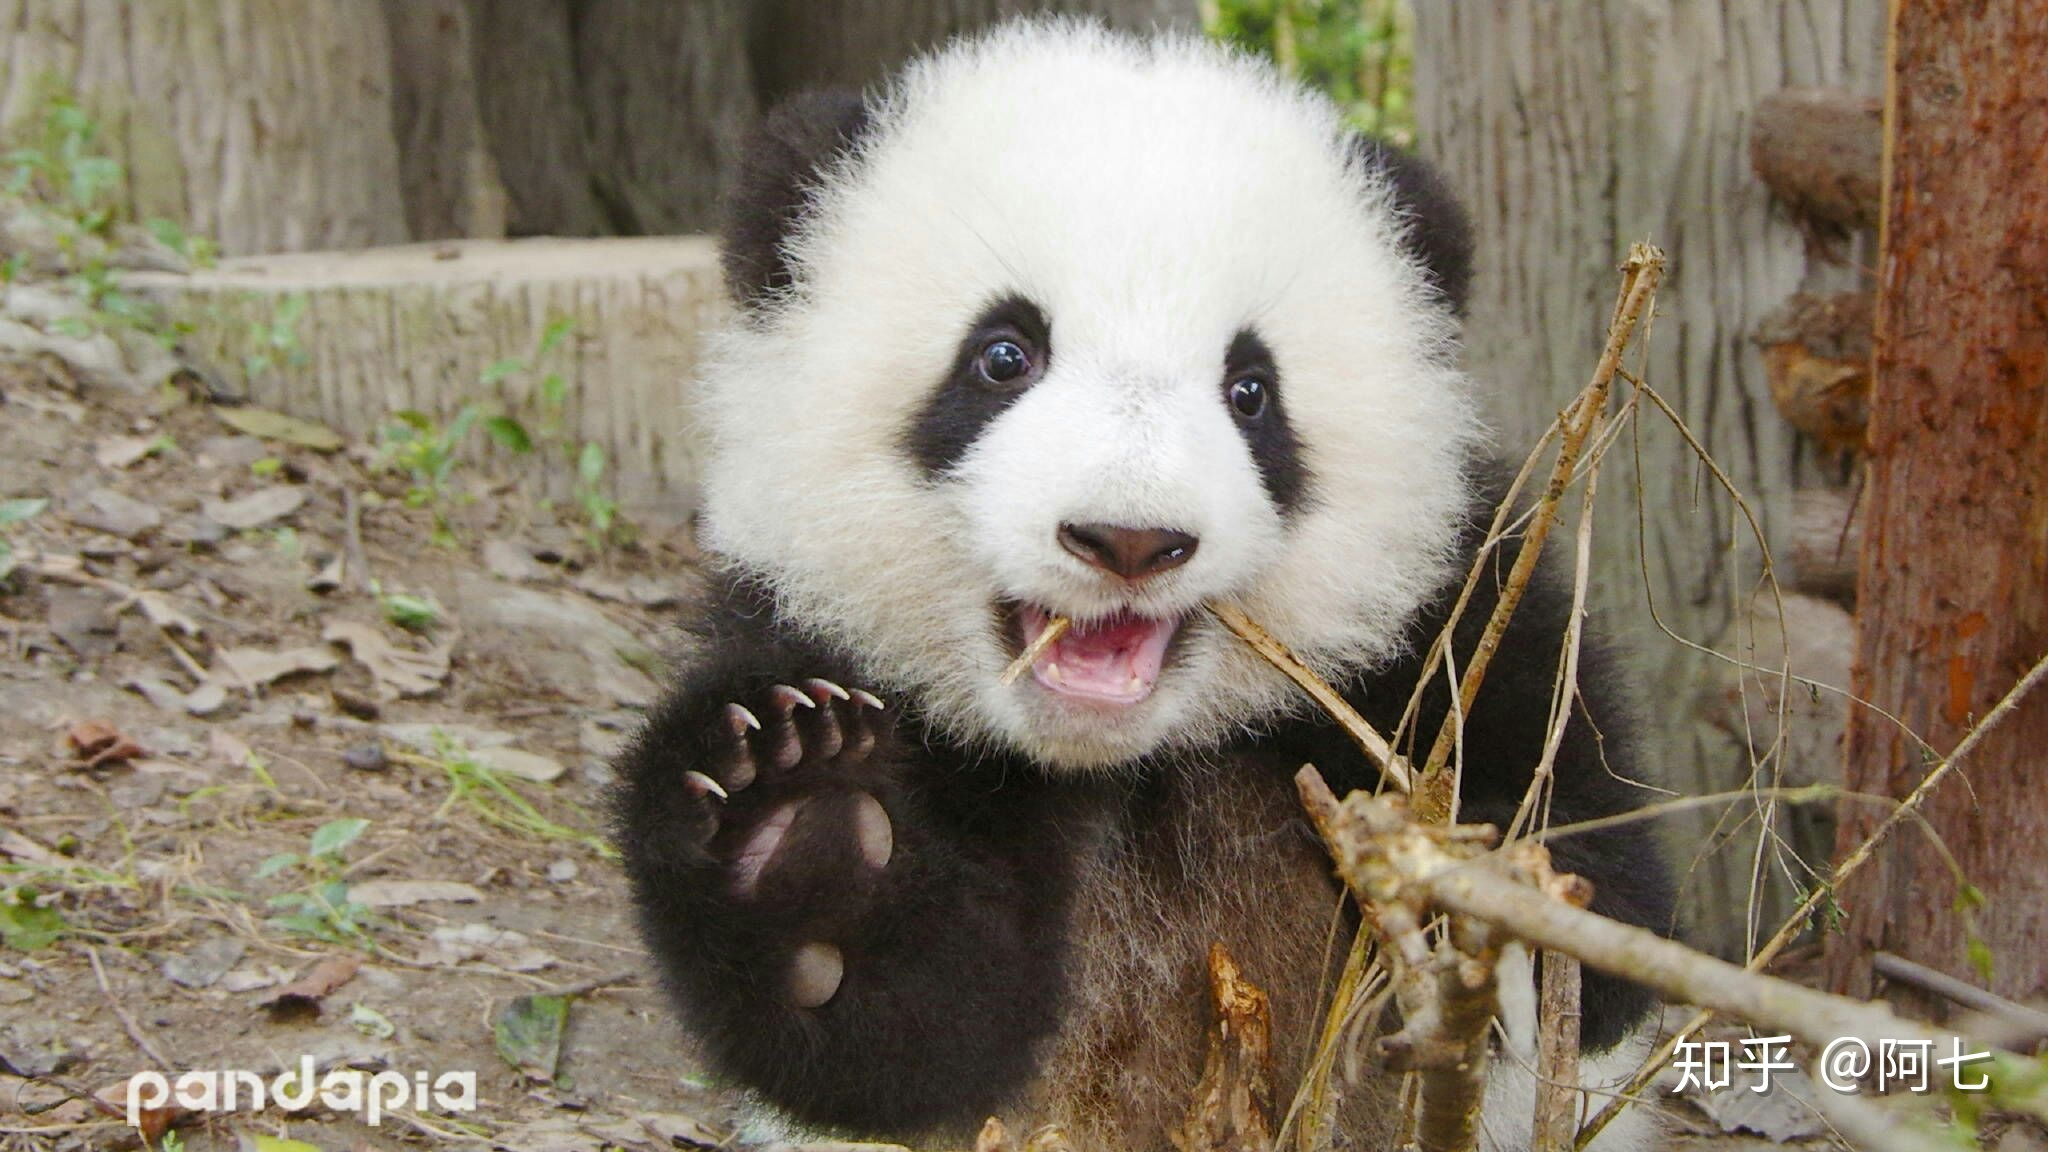panda: (572, 13, 1695, 1032)
